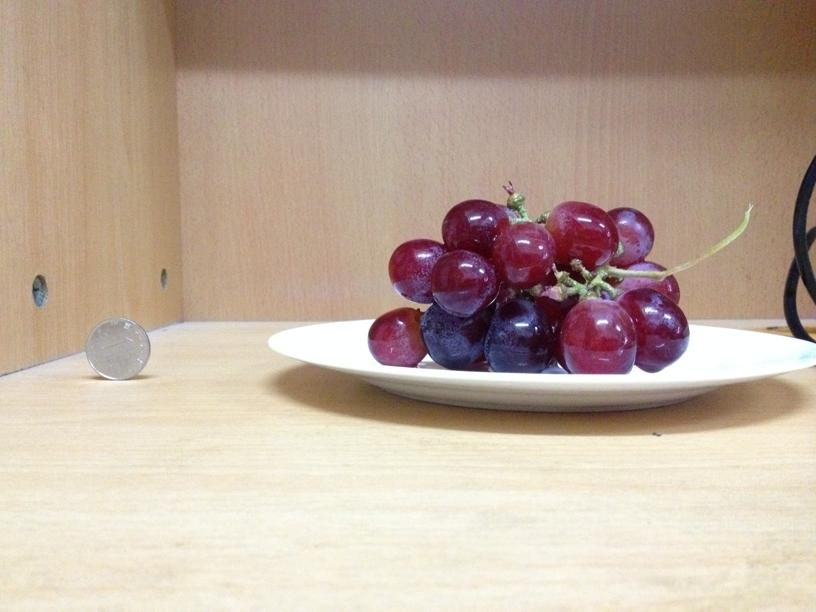coin: (81, 320, 150, 379)
grape: (364, 191, 691, 374)
